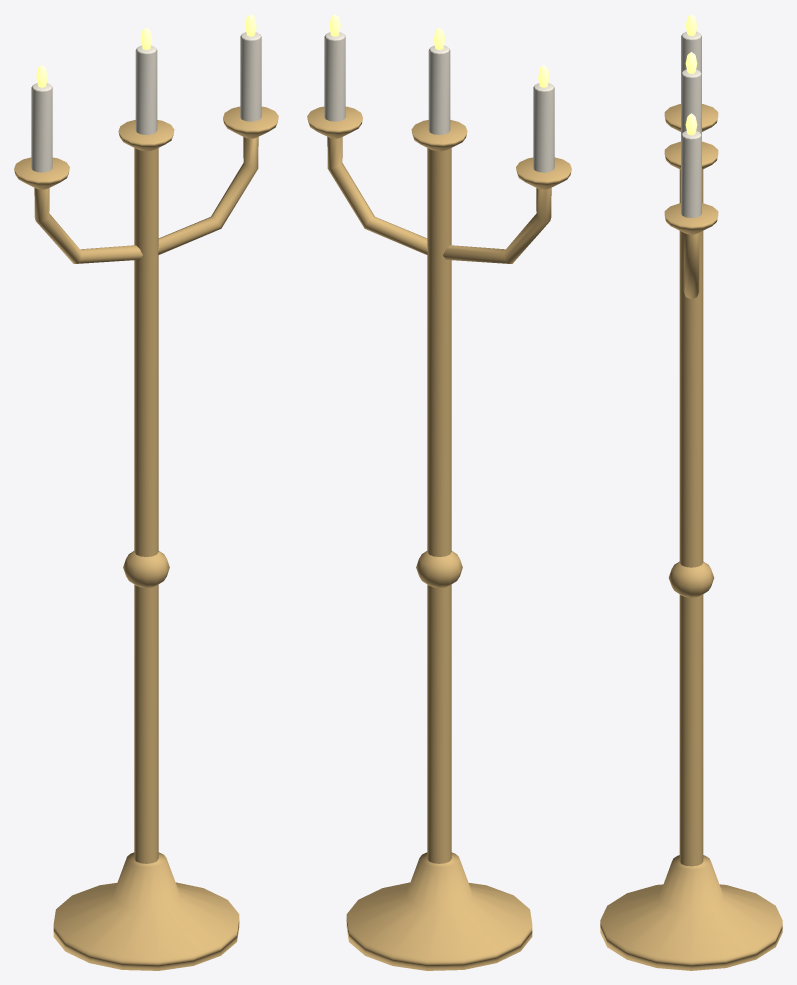
File: Tall_Candelabra.fbx
The picture shows the model from 3 angles, left to right: view 1: azimuth 30°, elevation 25°; view 2: azimuth 150°, elevation 25°; view 3: azimuth 270°, elevation 25°; orthographic projection. The views are drawn at different scales.
Parts seen in each view (by area): view 1: Tall_Candelabra_Mesh; view 2: Tall_Candelabra_Mesh; view 3: Tall_Candelabra_Mesh.
Boxes of the visible parts, x1,y1,x2,y2 form: Tall_Candelabra_Mesh: (14,14,278,970); Tall_Candelabra_Mesh: (307,14,571,970); Tall_Candelabra_Mesh: (600,14,782,970).
Size of the model in its own units: 0.444 by 1.49 by 0.28.
